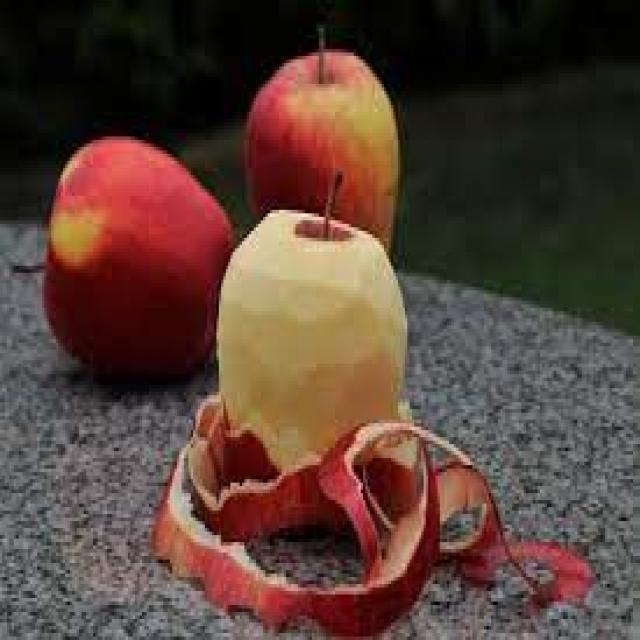Apple: (211, 210, 431, 469), (25, 133, 224, 387), (242, 28, 422, 251)
